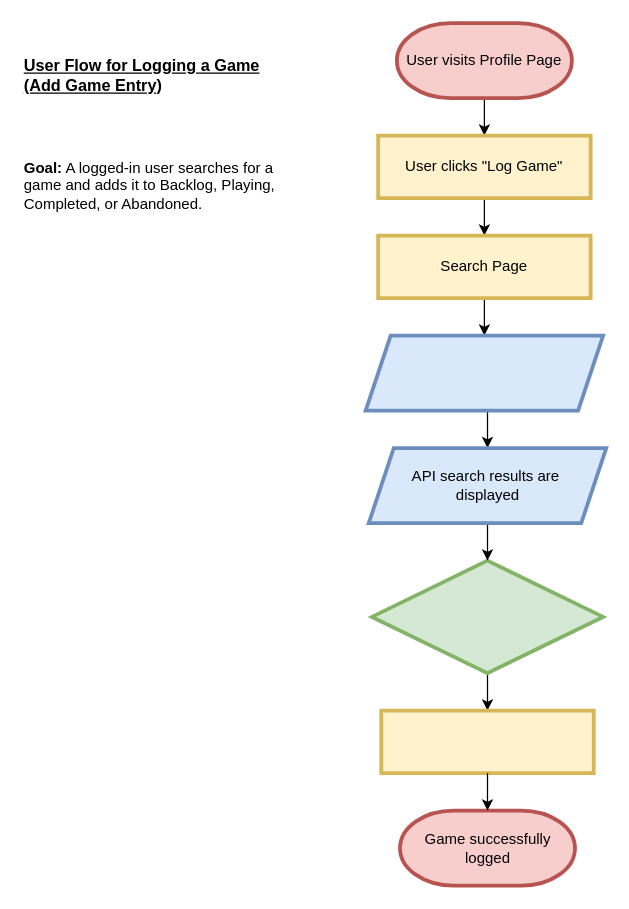
Image size: 629x909. Some labels were removed from this diagram. The shapes that lost their labels are listed below. From the top down, each one's centre as x and y in pixels, then its label:
the point at 483,372: User enters search term (aka game title)
the point at 486,616: User chooses a status (e.g. Playing)
the point at 487,741: Game entry saved to user's list
